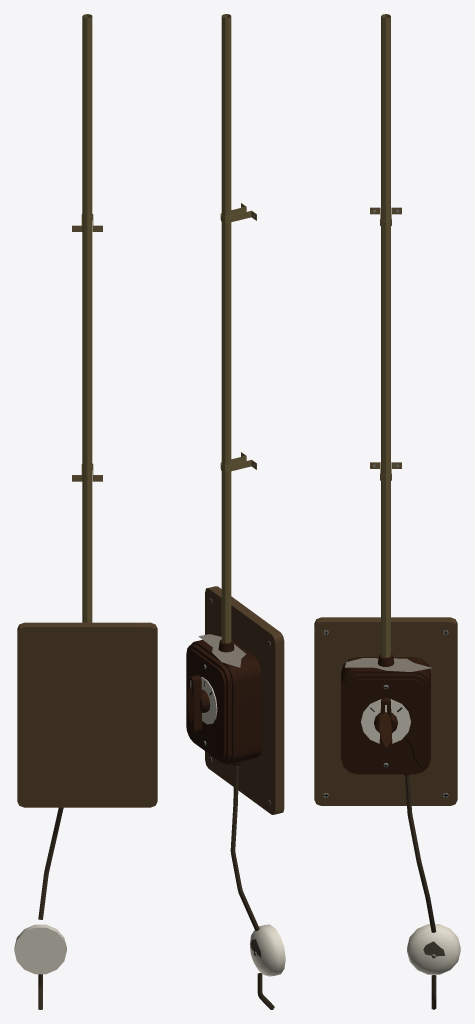
Rendered from junction_box@2.glb.
The picture shows the model from 3 angles, left to right: view 1: azimuth 90°, elevation 25°; view 2: azimuth 210°, elevation 25°; view 3: azimuth 270°, elevation 25°; orthographic projection. The views are drawn at different scales.
Parts seen in each view (by area): view 1: bakelitschalter0, bakelitschalter9, bakelitschalter4, bakelitschalter10; view 2: bakelitschalter0, bakelitschalter9, bakelitschalter3, bakelitschalter4, bakelitschalter10, bakelitschalter8; view 3: bakelitschalter0, bakelitschalter3, bakelitschalter9, bakelitschalter4, bakelitschalter10, bakelitschalter8.
Part boxes in pixels (x1,y1,x2,y2): bakelitschalter0: [17, 622, 157, 807]; bakelitschalter9: [72, 14, 102, 622]; bakelitschalter4: [14, 924, 66, 974]; bakelitschalter10: [38, 807, 63, 1009]; bakelitschalter0: [205, 586, 284, 814]; bakelitschalter9: [220, 14, 256, 643]; bakelitschalter3: [186, 635, 261, 765]; bakelitschalter4: [201, 677, 285, 976]; bakelitschalter10: [230, 765, 274, 1009]; bakelitschalter8: [198, 634, 245, 667]; bakelitschalter0: [314, 617, 457, 805]; bakelitschalter3: [341, 654, 430, 775]; bakelitschalter9: [370, 14, 401, 657]; bakelitschalter4: [361, 699, 460, 974]; bakelitschalter10: [404, 775, 436, 1009]; bakelitschalter8: [345, 658, 431, 671].
Size of the model in its own units: 0.119 by 1.85 by 0.245.
